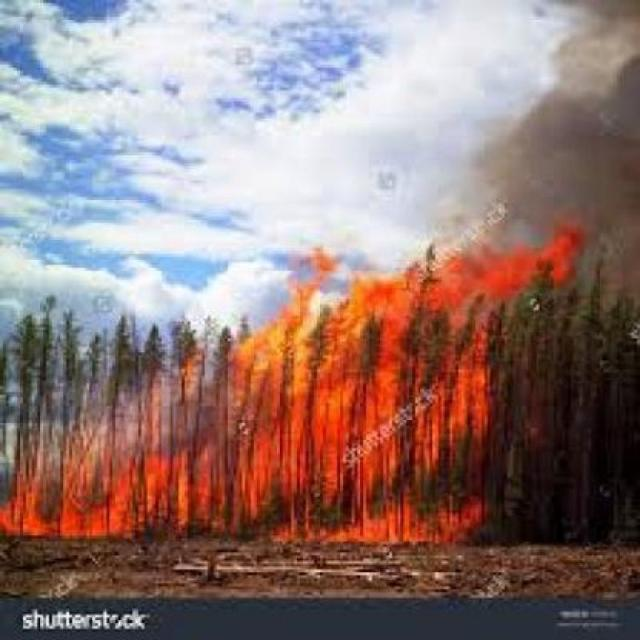Fire: (3, 266, 625, 576)
Smoke: (505, 0, 640, 255)
